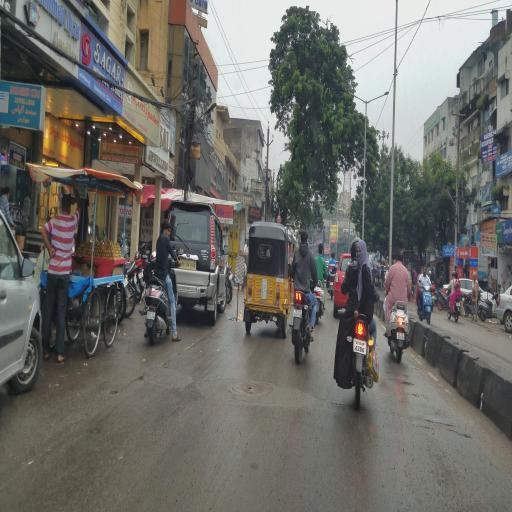street_light_0: (192, 91, 220, 127), (342, 78, 365, 114), (366, 85, 395, 111)
